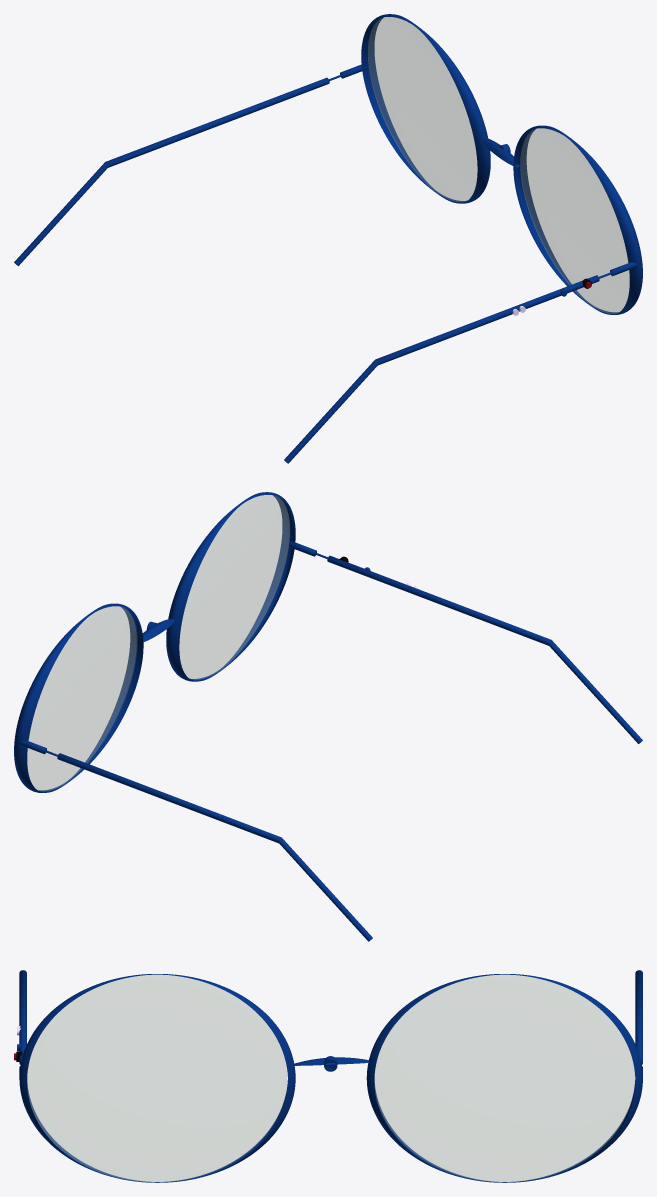
Rendered from blauw.glb.
The picture shows the model from 3 angles, top to bottom: view 1: azimuth 30°, elevation 25°; view 2: azimuth 150°, elevation 25°; view 3: azimuth 270°, elevation 25°; orthographic projection. The views are drawn at different scales.
Parts seen in each view (by area): view 1: Sphere.017, Sphere.018, Sphere.003, Sphere, Cylinder.003, Cylinder.004; view 2: Sphere.018, Sphere.017, Sphere, Sphere.003, Cylinder.004, Cylinder.003; view 3: Sphere.018, Sphere.017, Sphere, Sphere.003, Cylinder.003, Cylinder.004, Sphere.008.
Part boxes in pixels (x1,y1,x2,y2): Sphere.017: (368,17,477,201); Sphere.018: (520,128,629,313); Sphere.003: (361,14,490,203); Sphere: (513,125,642,314); Cylinder.003: (14,64,367,265); Cylinder.004: (284,262,637,463); Sphere.018: (179,495,289,679); Sphere.017: (27,606,137,790); Sphere: (166,492,295,681); Sphere.003: (14,603,143,792); Cylinder.004: (289,541,642,743); Cylinder.003: (19,740,372,941); Sphere.018: (27,975,286,1181); Sphere.017: (375,975,634,1181); Sphere: (19,974,295,1182); Sphere.003: (366,974,642,1182); Cylinder.003: (635,970,642,1072); Cylinder.004: (19,970,26,1075); Sphere.008: (294,1057,369,1065).
Bounding box in the file's own units: 3.9 × 2.05 × 5.1.
